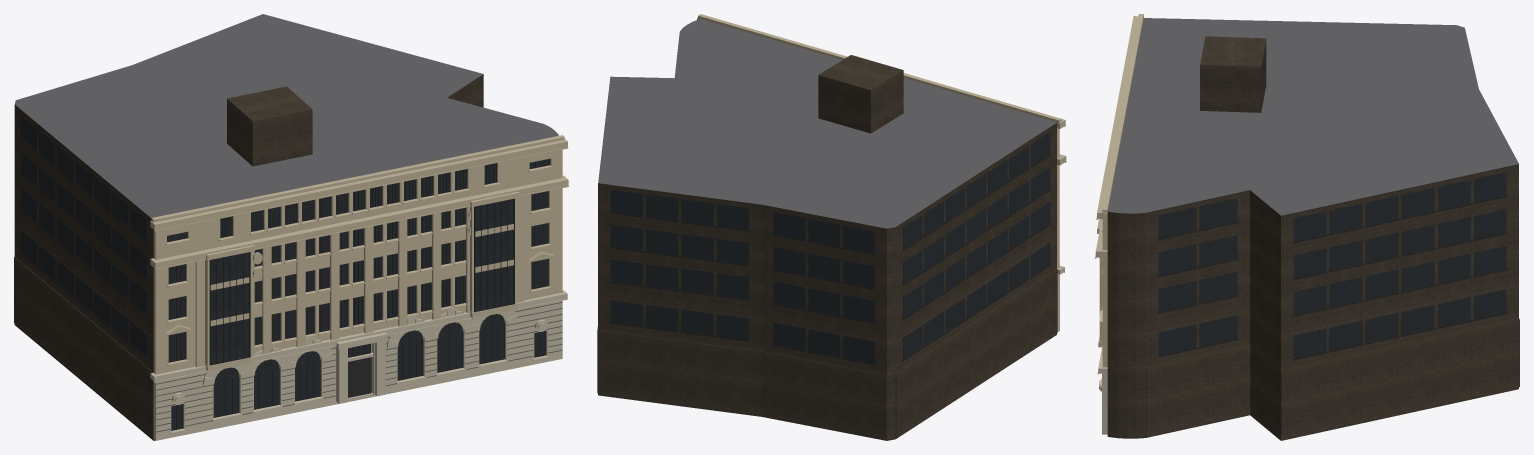
File: hero_mo3.glb
3 renders of one model, left to right at view 1: azimuth 30°, elevation 25°; view 2: azimuth 150°, elevation 25°; view 3: azimuth 270°, elevation 25°, orthographic. The views are drawn at different scales.
Visible parts, largest first — view 1: HERO_body, HERO_cornice.001, HERO_glass, HERO_cartouche, HERO_fan_bar, HERO_rustication_groove, HERO_door_left; view 2: HERO_body, HERO_glass, HERO_fan_bar, HERO_cornice.001; view 3: HERO_body, HERO_glass, HERO_cornice.001, HERO_fan_bar, HERO_cartouche.
Boxes of the visible parts, x1,y1,x2,y2 form: HERO_body: [14, 14, 558, 440]; HERO_cornice.001: [150, 135, 568, 374]; HERO_glass: [20, 115, 549, 429]; HERO_cartouche: [150, 290, 567, 440]; HERO_fan_bar: [19, 137, 550, 430]; HERO_rustication_groove: [156, 302, 562, 432]; HERO_door_left: [348, 357, 371, 397]; HERO_body: [597, 19, 1057, 440]; HERO_glass: [610, 132, 1050, 363]; HERO_fan_bar: [609, 154, 1050, 365]; HERO_cornice.001: [697, 14, 1066, 268]; HERO_body: [1107, 18, 1519, 440]; HERO_glass: [1158, 172, 1506, 358]; HERO_cornice.001: [1095, 14, 1143, 367]; HERO_fan_bar: [1157, 195, 1507, 360]; HERO_cartouche: [1097, 345, 1107, 434].
Bounding box in the file's own units: 38.64 × 24.43 × 34.67.
Materials: 8 (1 with a texture image).
